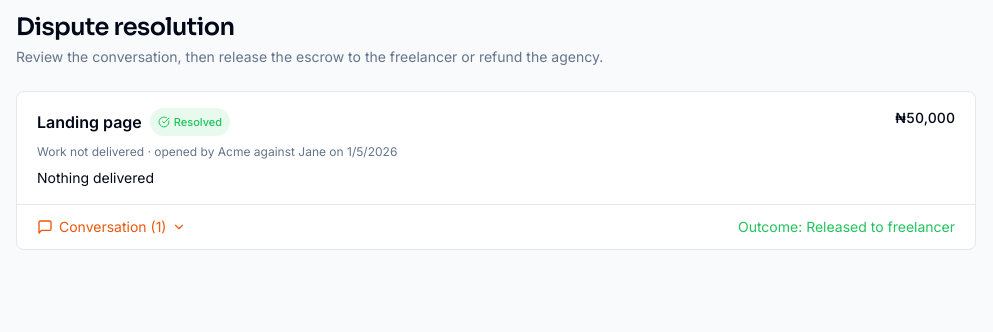
Scenario: AdminDisputes › shows the conversation on demand and no actions for a resolved dispute
Expected: the text "Outcome: Released to freelancer" is shown, top-left (738, 217), bottom-right (955, 237)
Click the button "Conversation (1)": (112, 227) top-left (37, 217), bottom-right (186, 237)
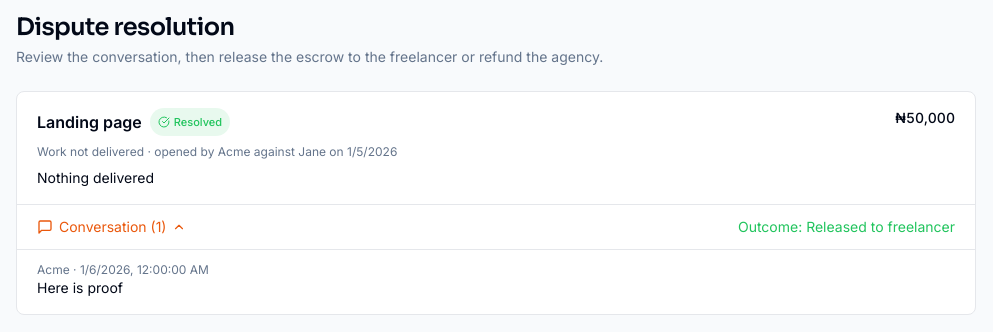
Expected: the text "Here is proof" is shown, top-left (37, 279), bottom-right (123, 296)
